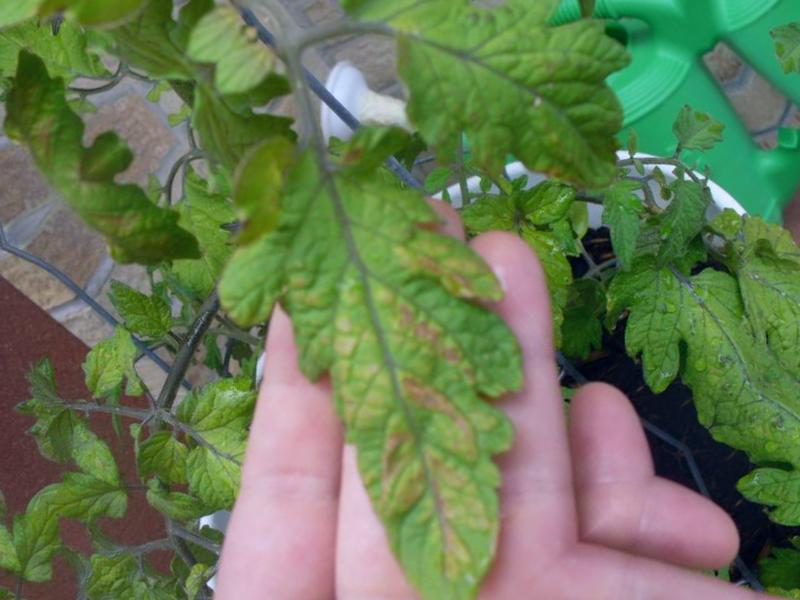Tomato leaf bacterial spot: (113, 74, 661, 600), (301, 0, 669, 279)
